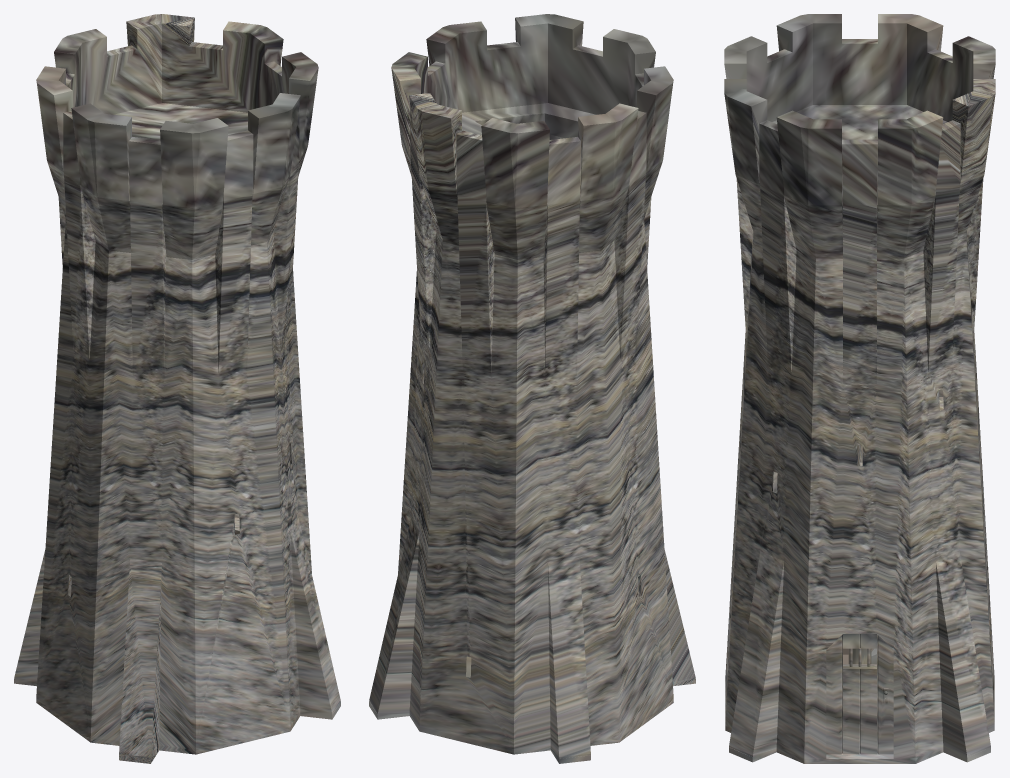
Rendered from castle.obj.
3 views of the same model, side by side, from view 1: azimuth 30°, elevation 25°; view 2: azimuth 150°, elevation 25°; view 3: azimuth 270°, elevation 25° (orthographic). The views are drawn at different scales.
Visible parts, largest first — view 1: Castle_Tower; view 2: Castle_Tower; view 3: Castle_Tower.
Boxes of the visible parts, <box> form: Castle_Tower: <box>14,14,340,763</box>; Castle_Tower: <box>369,14,695,763</box>; Castle_Tower: <box>724,14,995,763</box>.
Size of the model in its own units: 1.93 by 5 by 1.93.
